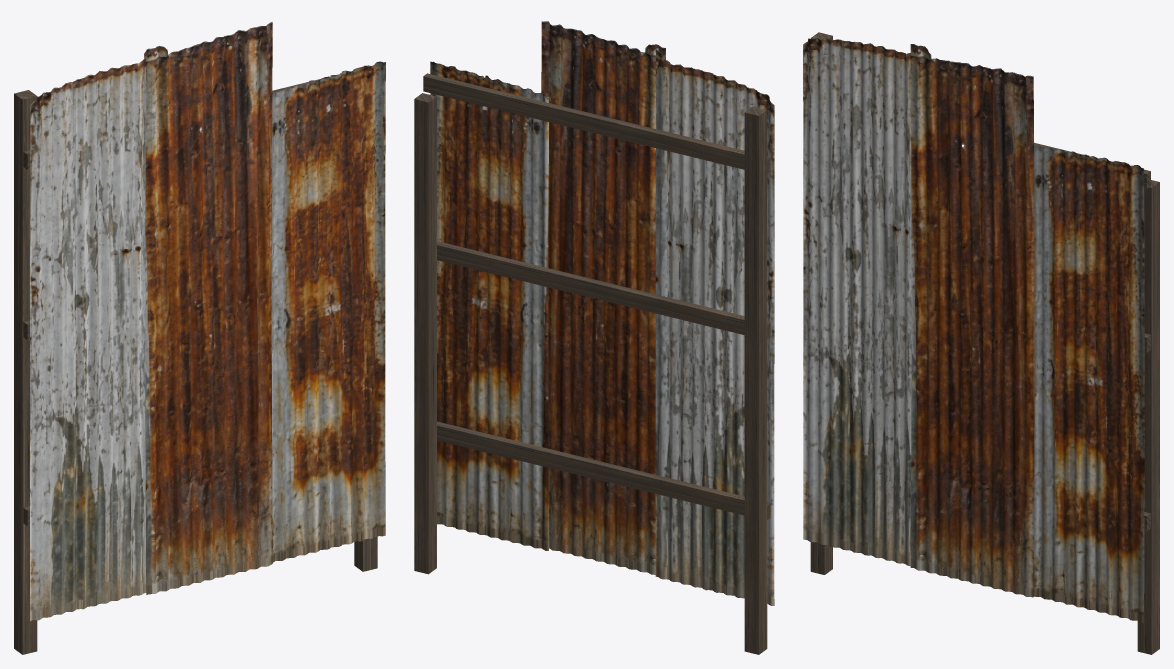
Rendered from pared_zinc_corto_lod1.glb.
3 views of the same model, side by side, from view 1: azimuth 30°, elevation 25°; view 2: azimuth 150°, elevation 25°; view 3: azimuth 330°, elevation 25° (orthographic). The views are drawn at different scales.
Parts seen in each view (by area): view 1: Pared_Zinc_corto_LOD1; view 2: Pared_Zinc_corto_LOD1; view 3: Pared_Zinc_corto_LOD1.
Part boxes in pixels (x1=…): Pared_Zinc_corto_LOD1: x1=14, y1=22, x2=385, y2=654; Pared_Zinc_corto_LOD1: x1=414, y1=21, x2=774, y2=654; Pared_Zinc_corto_LOD1: x1=803, y1=32, x2=1159, y2=654.
Bounding box in the file's own units: 2.4 × 3.8 × 0.2223.
1 material, 1 textured.
